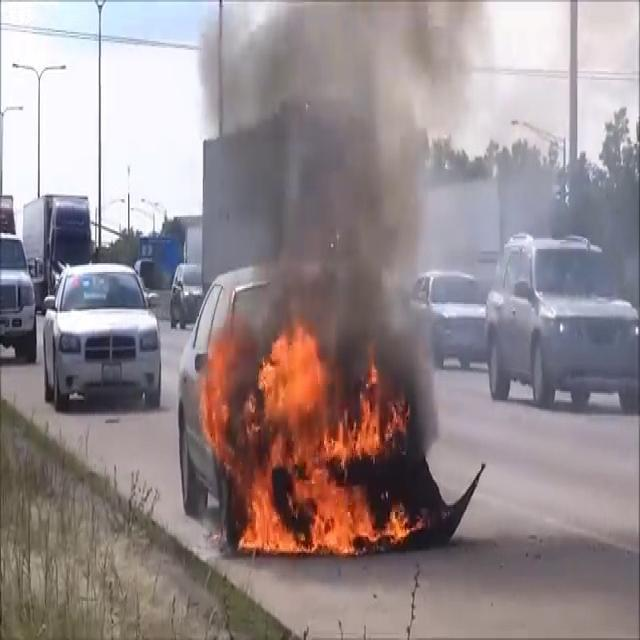Fire: (201, 319, 416, 568)
Smoke: (212, 1, 464, 378)
